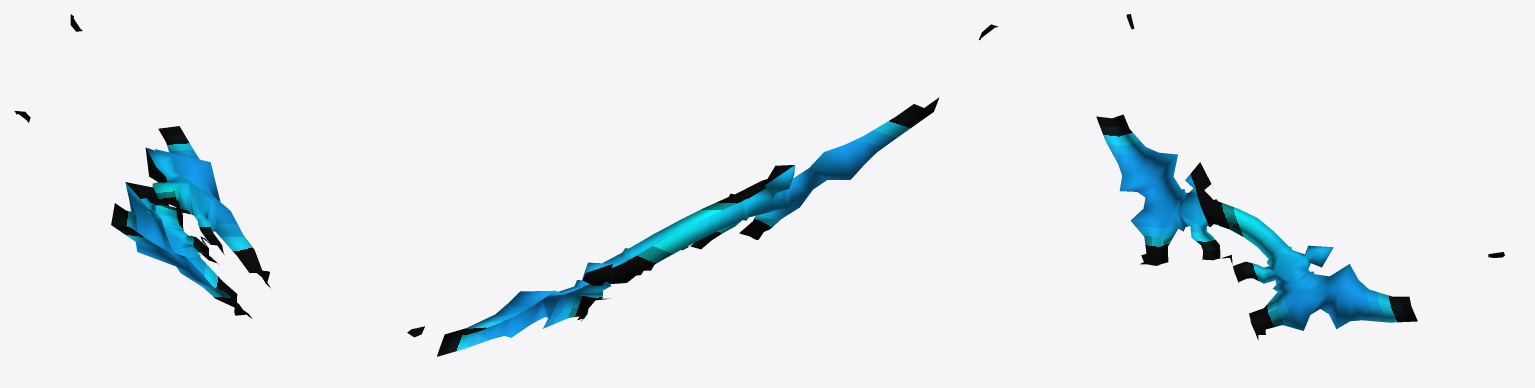
File: boy03_bow.FBX
3 views of the same model, side by side, from view 1: azimuth 30°, elevation 25°; view 2: azimuth 150°, elevation 25°; view 3: azimuth 270°, elevation 25° (orthographic). The views are drawn at different scales.
Visible parts, largest first — view 1: objAr_Smallbow_B04_A; view 2: objAr_Smallbow_B04_A; view 3: objAr_Smallbow_B04_A.
Boxes of the visible parts, left/top/right/bottom form: objAr_Smallbow_B04_A: left=14, top=14, right=270, bottom=318; objAr_Smallbow_B04_A: left=407, top=24, right=998, bottom=356; objAr_Smallbow_B04_A: left=1096, top=14, right=1504, bottom=340.
Bounding box in the file's own units: 39.44 × 34.45 × 57.25.
